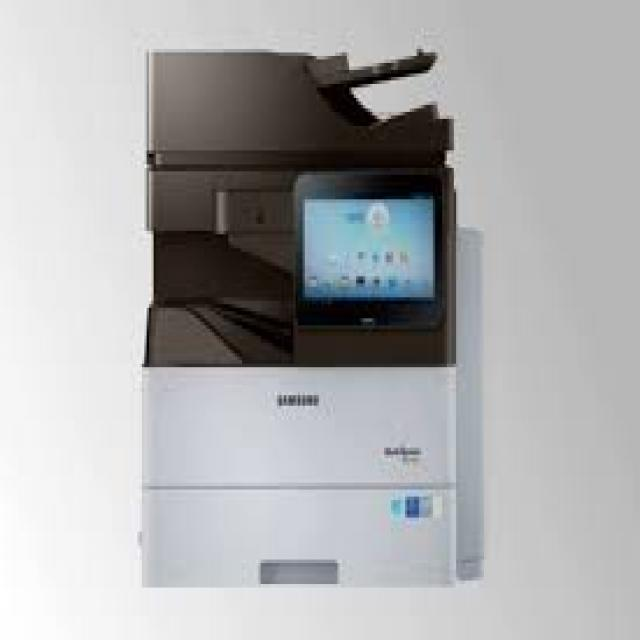printer: (127, 35, 497, 601)
